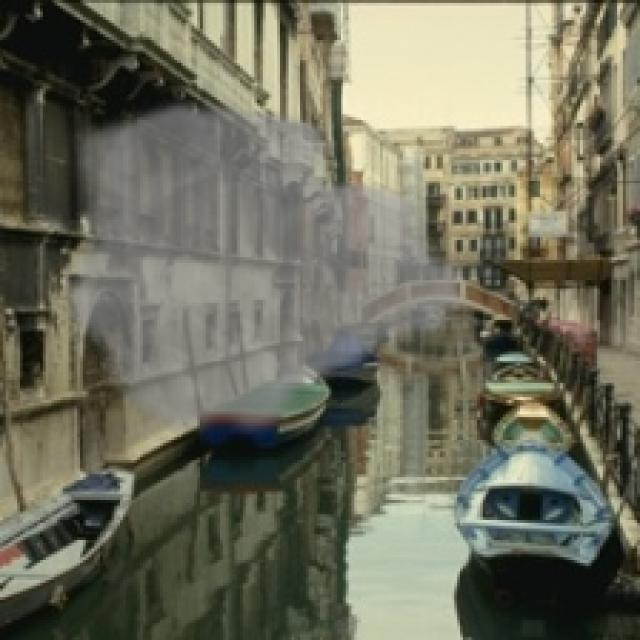Smoke: (60, 94, 480, 443)
